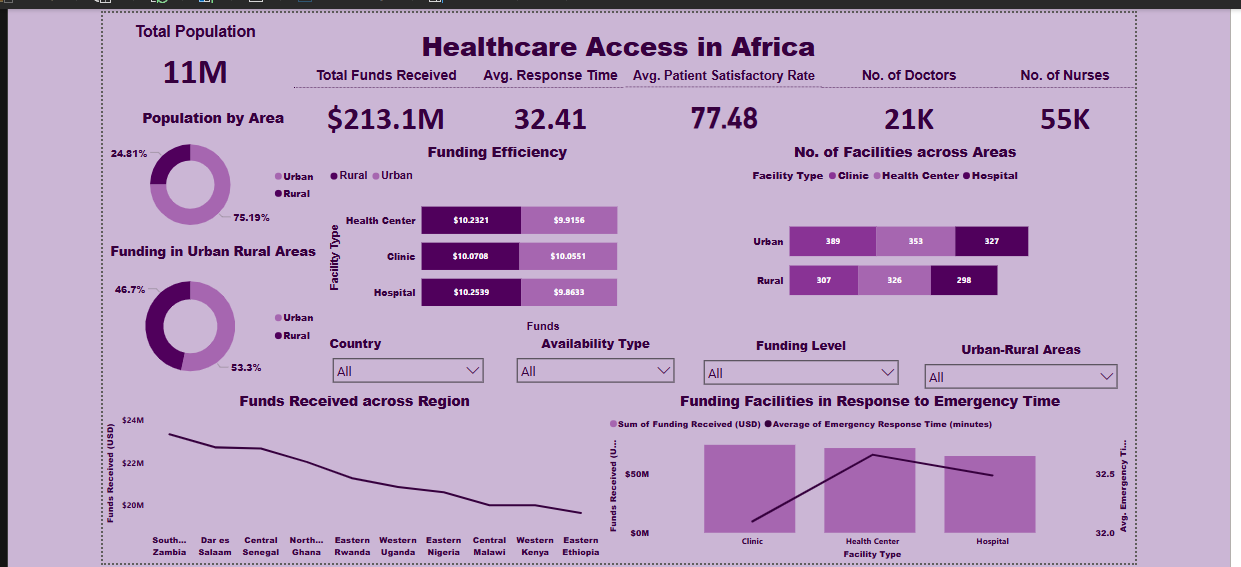

Layout of this report page (visuals, bound fields, positions):
{"tool":"powerbi","page":{"name":"Dashboard","canvas":[1500,800],"ordinal":6},"visuals":[{"type":"card","title":"Avg. Patient Satisfactory Rate","fields":{"Values":["Avg(Healthcare_Access_Africa.Patient Satisfaction Rate (%))"]},"box":[760.7,80,285.1,107.6],"z":0},{"type":"card","title":"No. of Doctors","fields":{"Values":["Sum(Healthcare_Access_Africa.Number of Doctors)"]},"box":[1045.8,80,253.1,107.6],"z":1000},{"type":"card","title":"No. of Nurses","fields":{"Values":["Sum(Healthcare_Access_Africa.Number of Nurses)"]},"box":[1298.9,80,200.7,107.6],"z":2000},{"type":"barChart","title":"No. of Facilities across Areas","fields":{"Y":["CountNonNull(Healthcare_Access_Africa.Facility Type)"],"Category":["Healthcare_Access_Africa.Urban_Rural Areas"],"Series":["Healthcare_Access_Africa.Facility Type"]},"box":[939.6,187.6,453.8,280.7],"z":3000},{"type":"donutChart","title":"Funding in Urban Rural Areas","fields":{"Y":["Sum(Healthcare_Access_Africa.Funding Received (USD))"],"Category":["Healthcare_Access_Africa.Urban_Rural Areas"]},"box":[0,333.1,320,218.2],"z":4000},{"type":"lineClusteredColumnComboChart","title":"Funding Facilities in Response to Emergency Time","fields":{"Category":["Healthcare_Access_Africa.Facility Type"],"Y":["Sum(Healthcare_Access_Africa.Funding Received (USD))"],"Y2":["Avg(Healthcare_Access_Africa.Emergency Response Time (minutes))"]},"box":[731.6,549.8,768,250.2],"z":5000},{"type":"barChart","title":"Funding Efficiency","fields":{"Category":["Healthcare_Access_Africa.Facility Type"],"Y":["Healthcare_Access_Africa.funding efficiency"],"Series":["Healthcare_Access_Africa.Urban_Rural Areas"]},"box":[324.4,187.6,497.5,280.7],"z":6000},{"type":"donutChart","title":"Population by Area","fields":{"Category":["Healthcare_Access_Africa.Urban_Rural Areas"],"Y":["Sum(Healthcare_Access_Africa.Population)"]},"box":[0,138.2,320,194.9],"z":7000},{"type":"card","title":"Avg. Response Time","fields":{"Values":["Avg(Healthcare_Access_Africa.Emergency Response Time (minutes))"]},"box":[545.5,80,210.9,107.6],"z":8000},{"type":"slicer","title":"Country","fields":{"Values":["Healthcare_Access_Africa.Country"]},"box":[324.4,468.4,238.5,75.6],"z":9000},{"type":"slicer","title":"Availability Type","fields":{"Values":["Healthcare_Access_Africa.availaibilty type"]},"box":[592,468.4,248.7,82.9],"z":10000},{"type":"textbox","box":[0,0,1498.8,80],"z":11000},{"type":"card","title":"Total Funds Received","fields":{"Values":["Sum(Healthcare_Access_Africa.Funding Received (USD))"]},"box":[277.8,80,267.6,107.6],"z":12000},{"type":"slicer","title":"Funding Level","fields":{"Values":["Healthcare_Access_Africa.Funding level"]},"box":[864,471.3,302.5,78.5],"z":13000},{"type":"slicer","title":"Urban-Rural Areas","fields":{"Values":["Healthcare_Access_Africa.Urban_Rural Areas"]},"box":[1185.5,477.1,299.6,72.7],"z":14000},{"type":"lineChart","title":"Funds Received across Region","fields":{"Category":["Healthcare_Access_Africa.Region"],"Y":["Sum(Healthcare_Access_Africa.Funding Received (USD))"]},"box":[0,549.8,731.6,250.2],"z":15000},{"type":"card","title":"Total Population","fields":{"Values":["Sum(Healthcare_Access_Africa.Population)"]},"box":[0,14.7,267.8,106.1],"z":16000}]}

Visuals, with their boxes on the page's 1500x800 design canvas (x1, y1, x2, y2). These are canvas units, not pixel positions in the 1241x567 screenshot, which may show the page scaled, cropped or inside an application window:
"Avg. Patient Satisfactory Rate" card: <bbox>761, 80, 1046, 188</bbox>
"No. of Doctors" card: <bbox>1046, 80, 1299, 188</bbox>
"No. of Nurses" card: <bbox>1299, 80, 1500, 188</bbox>
"No. of Facilities across Areas" barChart: <bbox>940, 188, 1393, 468</bbox>
"Funding in Urban Rural Areas" donutChart: <bbox>0, 333, 320, 551</bbox>
"Funding Facilities in Response to Emergency Time" lineClusteredColumnComboChart: <bbox>732, 550, 1500, 800</bbox>
"Funding Efficiency" barChart: <bbox>324, 188, 822, 468</bbox>
"Population by Area" donutChart: <bbox>0, 138, 320, 333</bbox>
"Avg. Response Time" card: <bbox>546, 80, 756, 188</bbox>
"Country" slicer: <bbox>324, 468, 563, 544</bbox>
"Availability Type" slicer: <bbox>592, 468, 841, 551</bbox>
textbox: <bbox>0, 0, 1499, 80</bbox>
"Total Funds Received" card: <bbox>278, 80, 545, 188</bbox>
"Funding Level" slicer: <bbox>864, 471, 1166, 550</bbox>
"Urban-Rural Areas" slicer: <bbox>1186, 477, 1485, 550</bbox>
"Funds Received across Region" lineChart: <bbox>0, 550, 732, 800</bbox>
"Total Population" card: <bbox>0, 15, 268, 121</bbox>
